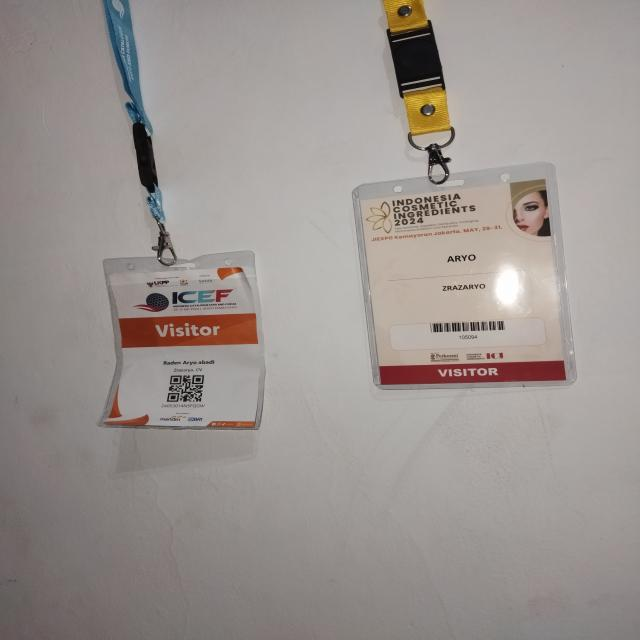ID_card: (351, 162, 577, 390), (97, 250, 266, 431)
